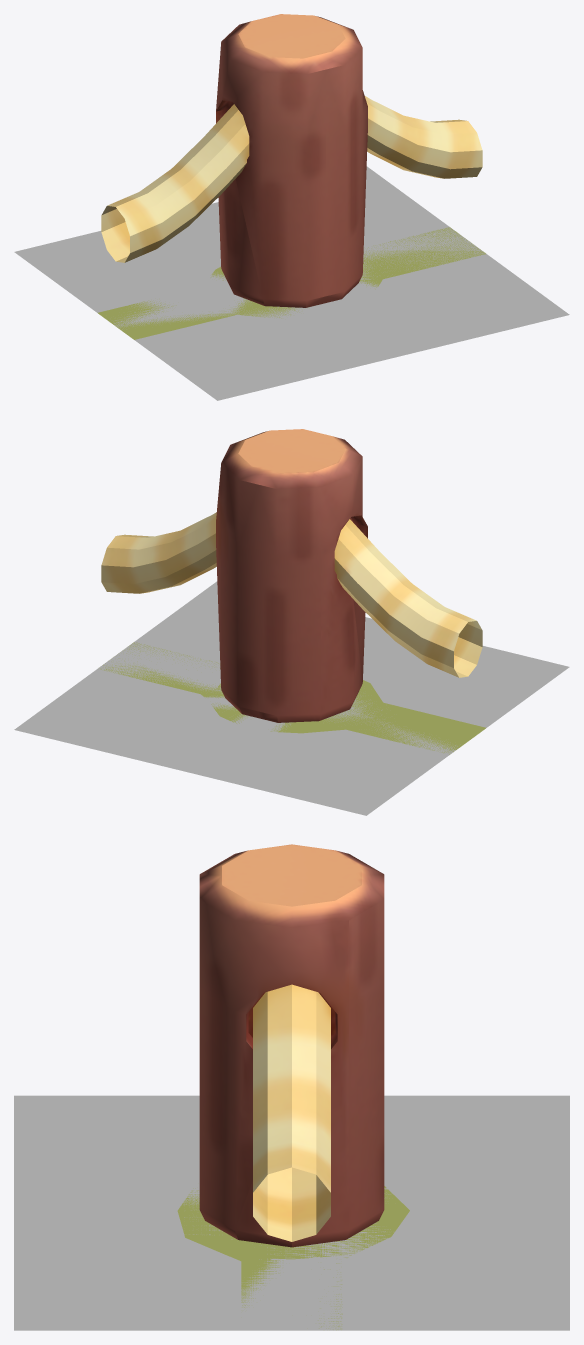
Rendered from Fence_Continous.fbx.
The picture shows the model from 3 angles, top to bottom: view 1: azimuth 30°, elevation 25°; view 2: azimuth 150°, elevation 25°; view 3: azimuth 270°, elevation 25°; orthographic projection. The views are drawn at different scales.
Parts seen in each view (by area): view 1: FenceContinous, FenceContinousGrid, FenceContinousShadow; view 2: FenceContinous, FenceContinousGrid, FenceContinousShadow; view 3: FenceContinousGrid, FenceContinous, FenceContinousShadow.
Boxes of the visible parts, box(x1,y1,x2,y2) form: FenceContinous: box(101, 14, 482, 307); FenceContinousGrid: box(14, 166, 569, 400); FenceContinousShadow: box(98, 227, 485, 339); FenceContinous: box(101, 429, 482, 722); FenceContinousGrid: box(14, 581, 569, 815); FenceContinousShadow: box(100, 642, 485, 754); FenceContinousGrid: box(14, 1095, 569, 1330); FenceContinous: box(199, 844, 384, 1247); FenceContinousShadow: box(177, 1186, 409, 1330).
Bounding box in the file's own units: 100 × 67.1 × 100.
